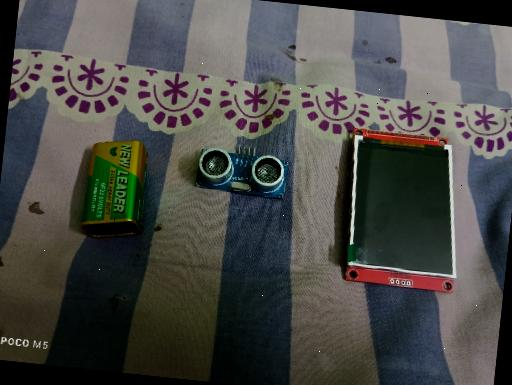Battery: (79, 135, 152, 242)
Display: (336, 127, 471, 294)
sensor: (193, 140, 290, 199)
